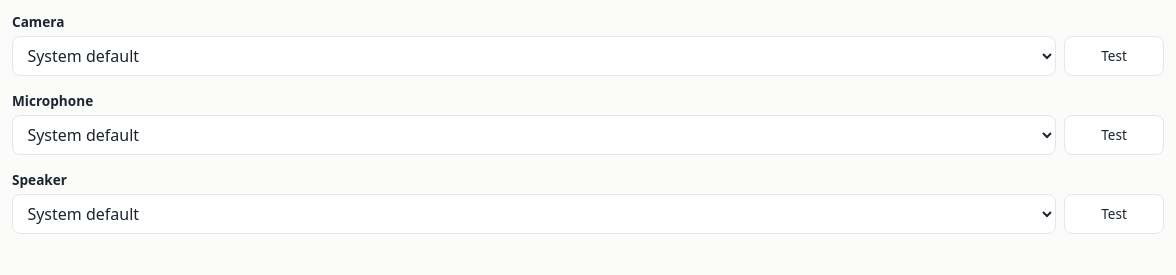
Test: DevicePicker › shows a message when the camera test is blocked
Click the 1st button "Test". click: (1114, 56)
box: [1064,36,1164,76]
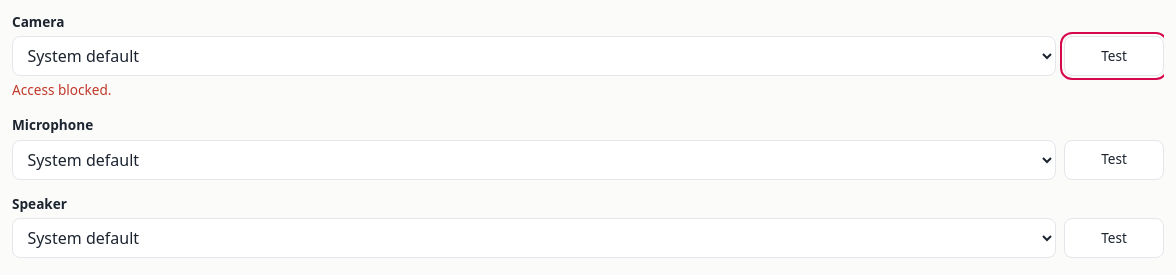
Check: the text with class "device-msg" reads "Access blocked.", box [12,80,112,99]
